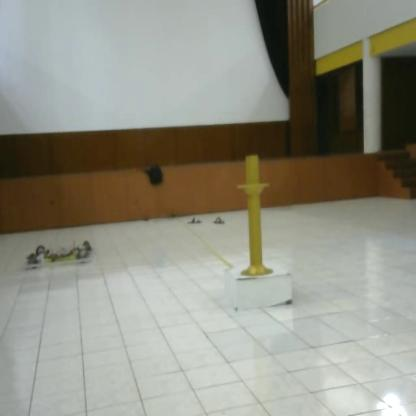pole: (234, 153, 278, 282)
